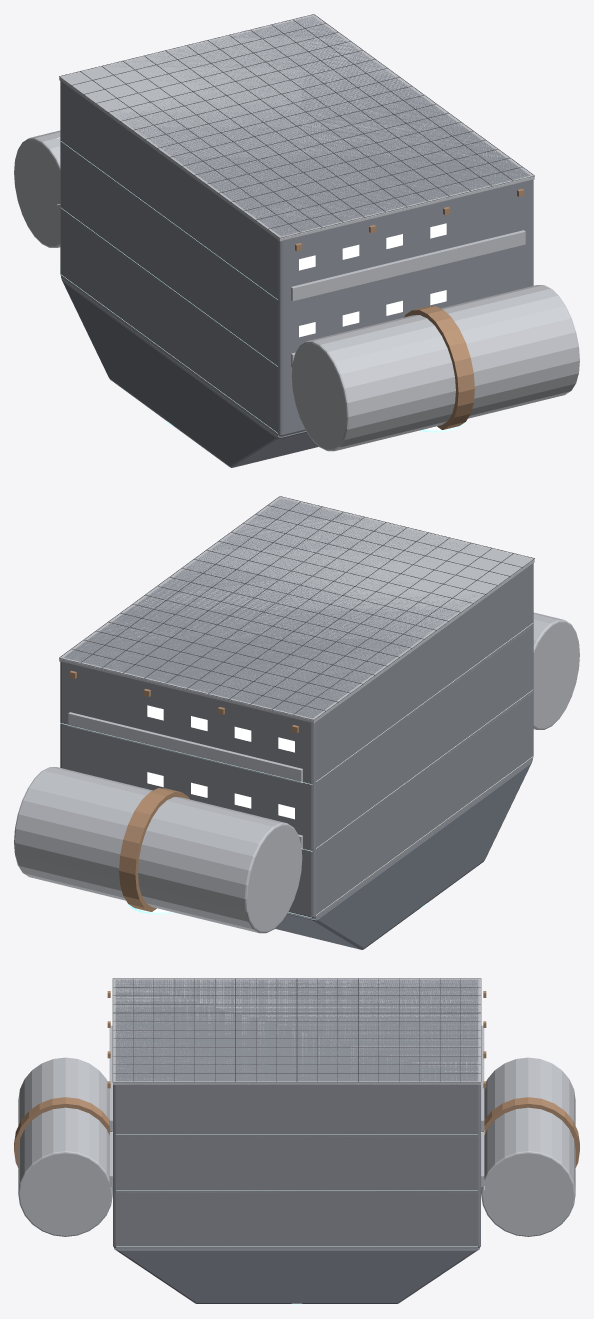
Rendered from ship_lift_18x12.glb.
3 views of the same model, one above another, from view 1: azimuth 30°, elevation 25°; view 2: azimuth 150°, elevation 25°; view 3: azimuth 270°, elevation 25° (orthographic). The views are drawn at different scales.
Visible parts, largest first — view 1: ext_hull, ext_deck_top, ext_lift_pod0, ext_hull_belly, ext_deck_grid, ext_lift_pod2, ext_armor_plates, ext_lift_ring0, ext_ports1, ext_ports2, int_deck0; view 2: ext_hull, ext_deck_top, ext_lift_pod2, ext_hull_belly, ext_deck_grid, ext_lift_pod0, ext_armor_plates, ext_lift_ring2, ext_ports1, ext_ports2, int_deck0; view 3: ext_hull, ext_hull_belly, ext_lift_pod0, ext_lift_pod2, ext_deck_top, ext_deck_grid, ext_lift_ring0, ext_lift_ring2, ext_armor_plates, int_deck0, int_deck1.
Boxes of the visible parts, x1,y1,x2,y2 form: ext_hull: (60, 16, 533, 436); ext_deck_top: (59, 15, 534, 241); ext_lift_pod0: (291, 285, 579, 451); ext_hull_belly: (61, 279, 318, 467); ext_deck_grid: (59, 14, 534, 238); ext_lift_pod2: (14, 130, 60, 247); ext_armor_plates: (291, 230, 525, 367); ext_lift_ring0: (404, 306, 474, 429); ext_ports1: (299, 290, 446, 337); ext_ports2: (299, 223, 446, 270); int_deck0: (61, 275, 279, 436); ext_hull: (60, 499, 533, 918); ext_deck_top: (59, 497, 534, 723); ext_lift_pod2: (14, 767, 302, 933); ext_hull_belly: (275, 761, 532, 949); ext_deck_grid: (59, 496, 534, 720); ext_lift_pod0: (533, 612, 579, 729); ext_armor_plates: (68, 712, 302, 849); ext_lift_ring2: (119, 788, 189, 911); ext_ports1: (147, 772, 294, 819); ext_ports2: (147, 705, 294, 752); int_deck0: (314, 757, 532, 918); ext_hull: (113, 979, 480, 1247); ext_hull_belly: (114, 1247, 479, 1303); ext_lift_pod0: (18, 1057, 112, 1236); ext_lift_pod2: (481, 1057, 575, 1236); ext_deck_top: (113, 978, 480, 1084); ext_deck_grid: (112, 978, 481, 1082); ext_lift_ring0: (14, 1097, 111, 1167); ext_lift_ring2: (482, 1097, 579, 1167); ext_armor_plates: (109, 1025, 484, 1186); int_deck0: (116, 1246, 477, 1248); int_deck1: (116, 1190, 477, 1192).
Size of the model in its own units: 12.02 by 12.05 by 27.67.
